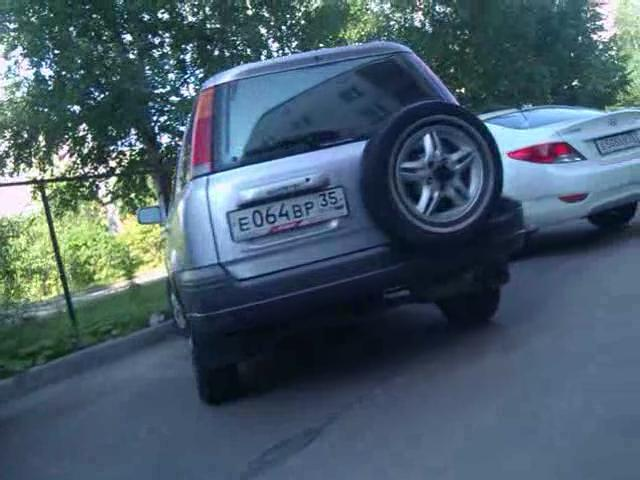license-plateSW: (230, 186, 347, 235), (595, 130, 639, 152)
